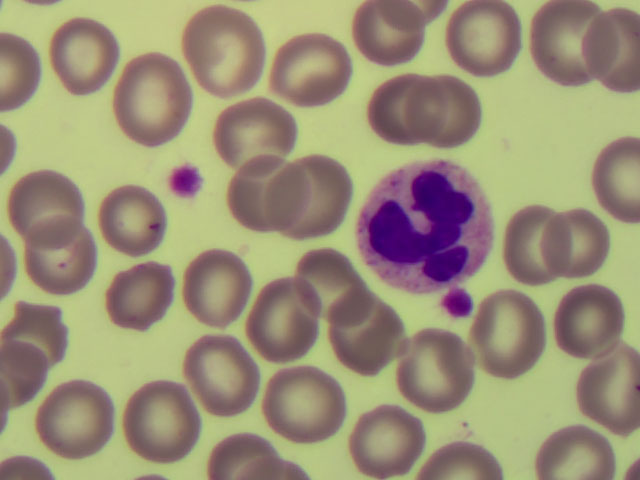Platelets: (167, 161, 205, 197), (445, 286, 475, 318)
RBC: (269, 156, 355, 244), (185, 12, 274, 94), (535, 1, 616, 88), (183, 335, 263, 418), (120, 53, 191, 146), (124, 385, 204, 462), (571, 347, 640, 433), (270, 39, 355, 107), (509, 199, 573, 287), (233, 162, 309, 236), (444, 1, 521, 74), (268, 364, 344, 437), (404, 329, 473, 409), (586, 5, 640, 107), (9, 169, 82, 243), (482, 291, 545, 376), (558, 286, 624, 367), (253, 278, 318, 360), (333, 297, 401, 375), (36, 388, 114, 453), (182, 251, 247, 329), (27, 219, 94, 294), (218, 100, 293, 167), (372, 82, 451, 145), (350, 1, 429, 62), (55, 13, 114, 94), (298, 254, 363, 324), (416, 80, 484, 146), (358, 407, 422, 475), (109, 267, 174, 332), (600, 125, 640, 228), (99, 190, 163, 253), (552, 210, 610, 279), (539, 426, 613, 480), (2, 326, 45, 405), (420, 441, 505, 480), (6, 306, 66, 361), (208, 437, 276, 480), (1, 35, 33, 107), (371, 1, 441, 29), (228, 457, 308, 480), (3, 456, 50, 480), (1, 232, 12, 303), (1, 121, 14, 170)
WBC: (366, 160, 490, 282)
